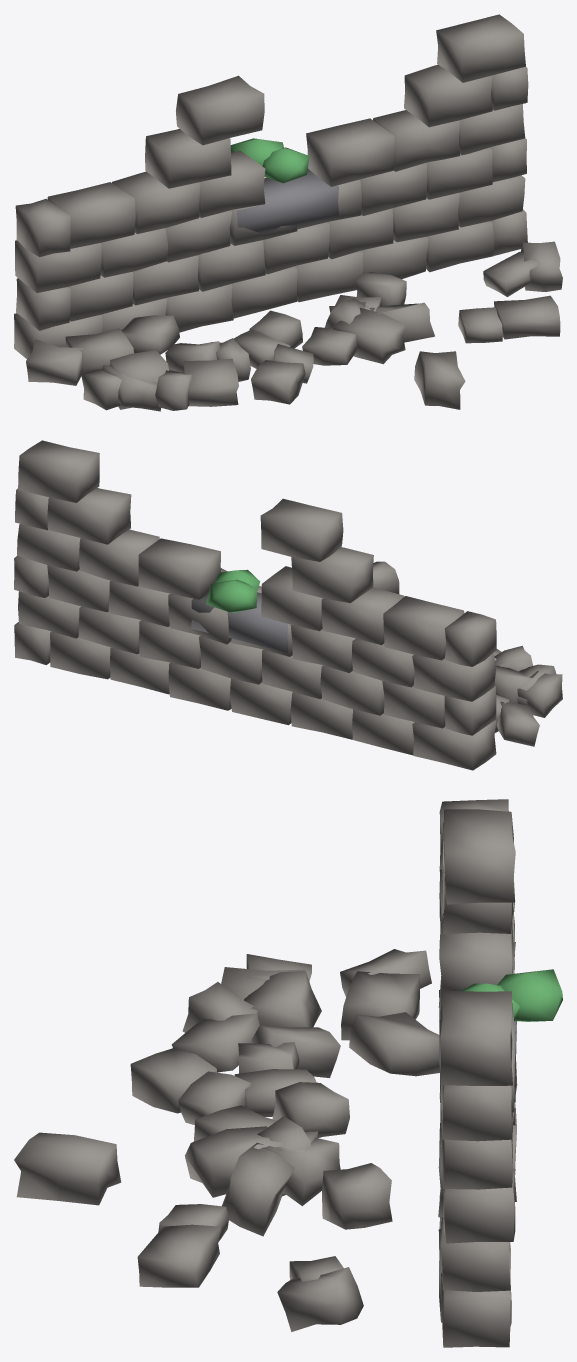
File: poi_ruin_wall_a.glb
The picture shows the model from 3 angles, top to bottom: view 1: azimuth 30°, elevation 25°; view 2: azimuth 150°, elevation 25°; view 3: azimuth 270°, elevation 25°; orthographic projection. The views are drawn at different scales.
Parts seen in each view (by area): view 1: poi_ruin_wall_a; view 2: poi_ruin_wall_a; view 3: poi_ruin_wall_a.
Part boxes in pixels (x1=…): poi_ruin_wall_a: x1=14, y1=14, x2=562, y2=411; poi_ruin_wall_a: x1=14, y1=440, x2=562, y2=770; poi_ruin_wall_a: x1=14, y1=799, x2=562, y2=1347.
Bounding box in the file's own units: 7.2 × 2.92 × 4.61.
